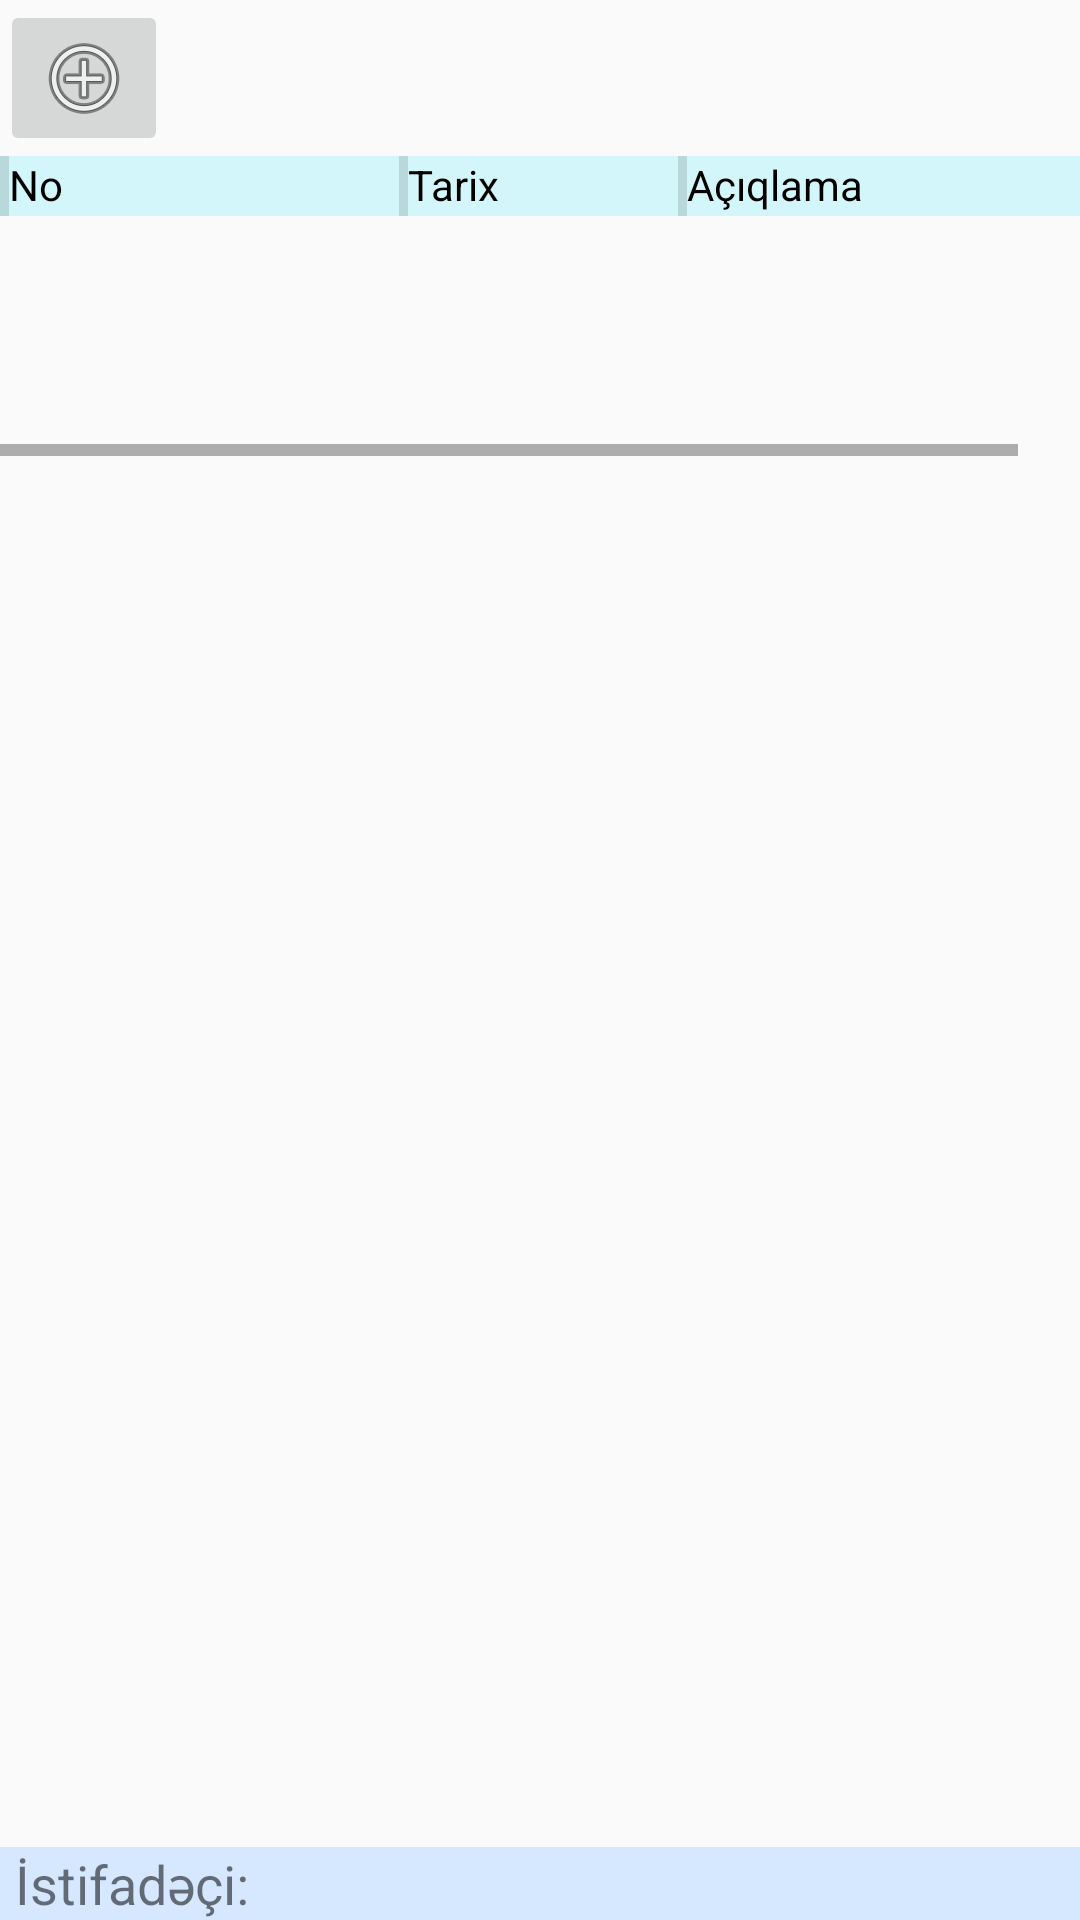

Locate icon controls on the screen. Image size 1080px×1920px, boxes as (x1, y1, x2, y2).
add: (12, 18, 156, 138)
